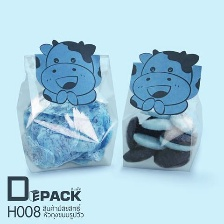snack: (9, 31, 123, 178), (115, 42, 209, 175)
